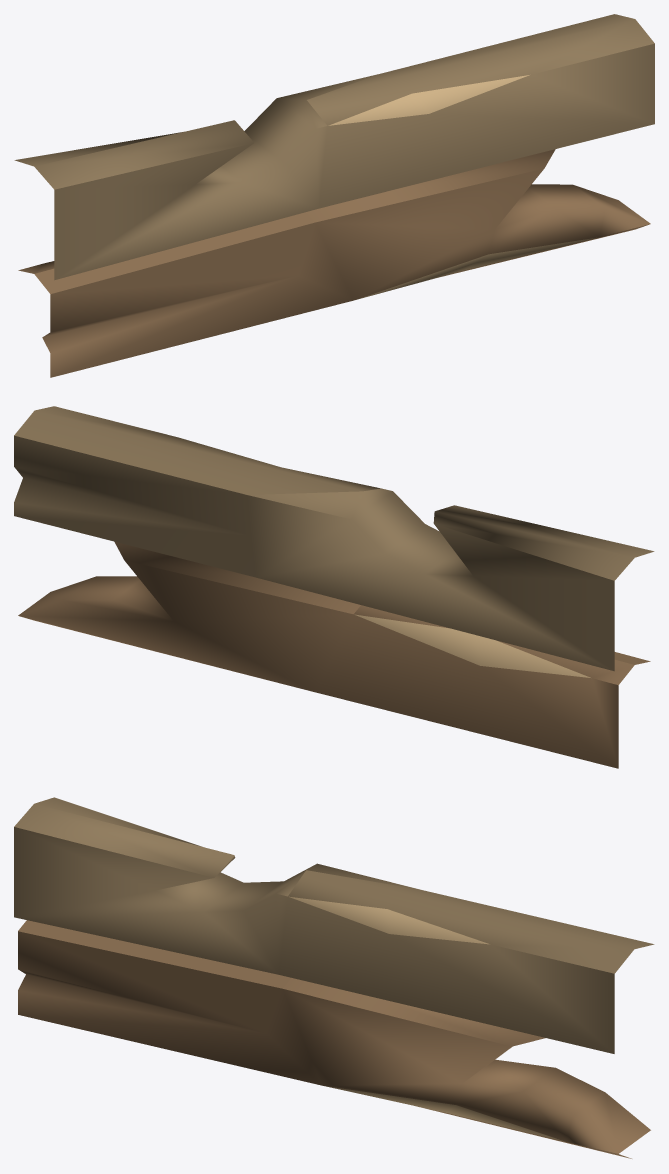
The model's file is rpgpp_av_wall_01_3x1_c.gltf.
3 renders of one model, top to bottom at view 1: azimuth 30°, elevation 25°; view 2: azimuth 150°, elevation 25°; view 3: azimuth 330°, elevation 25°, orthographic.
Parts seen in each view (by area): view 1: rpgpp_av_wall_01_3x1_c; view 2: rpgpp_av_wall_01_3x1_c; view 3: rpgpp_av_wall_01_3x1_c.
Part boxes in pixels (x1,y1,x2,y2): rpgpp_av_wall_01_3x1_c: (14,14,654,377); rpgpp_av_wall_01_3x1_c: (14,406,654,768); rpgpp_av_wall_01_3x1_c: (14,797,654,1158).
Size of the model in its own units: 0.03 by 0.01 by 0.00352.
Materials: 1 (1 with a texture image).
